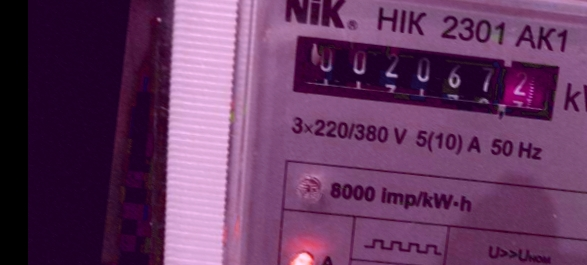0: (316, 44, 337, 75), (413, 53, 434, 82), (350, 46, 370, 76)
2: (511, 67, 532, 98), (383, 49, 403, 80)
6: (445, 59, 466, 90)
7: (478, 63, 497, 95)
screen: (276, 21, 576, 135)
